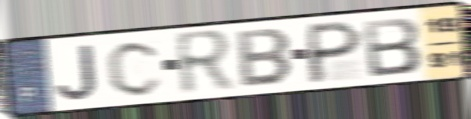B: (361, 15, 424, 79), (235, 27, 295, 89)
C: (104, 38, 164, 98)
J: (55, 42, 101, 102)
P: (306, 18, 365, 85)
R: (172, 27, 238, 100)
